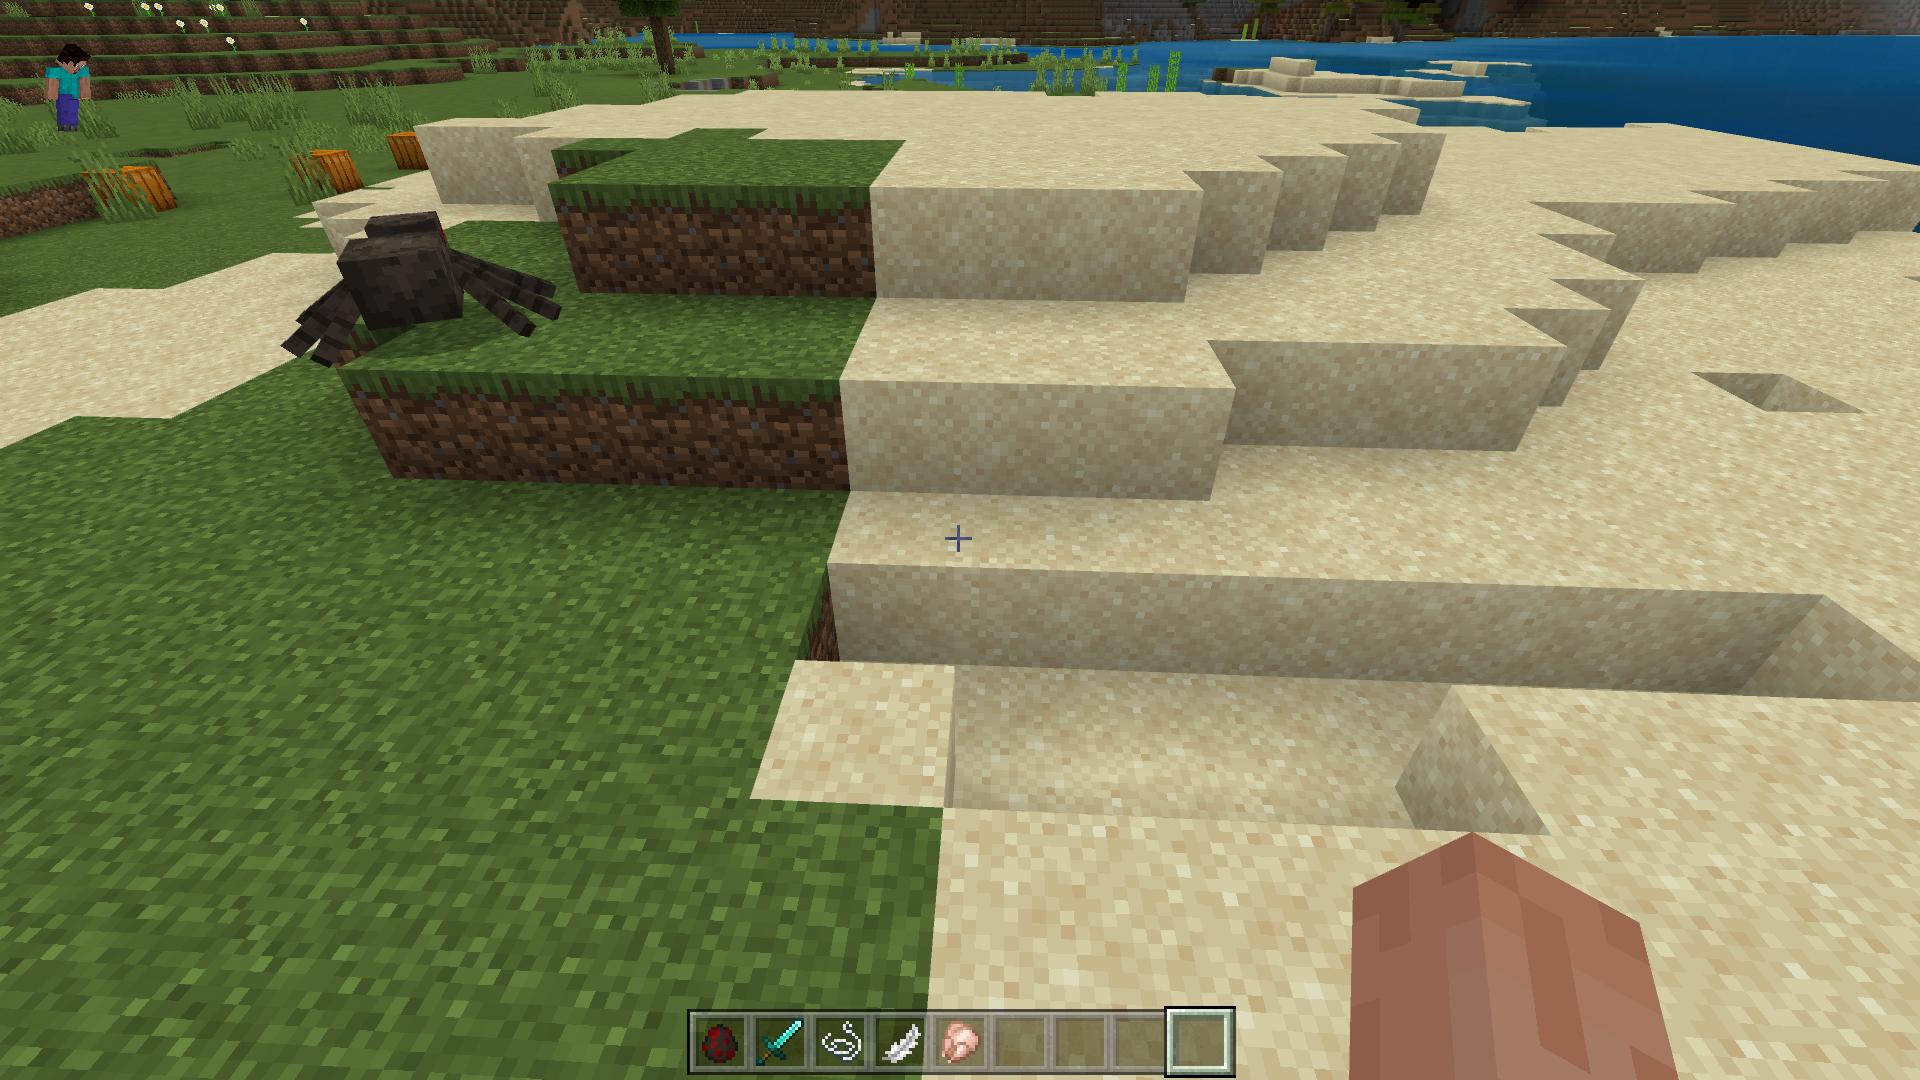spider: (284, 211, 560, 363)
